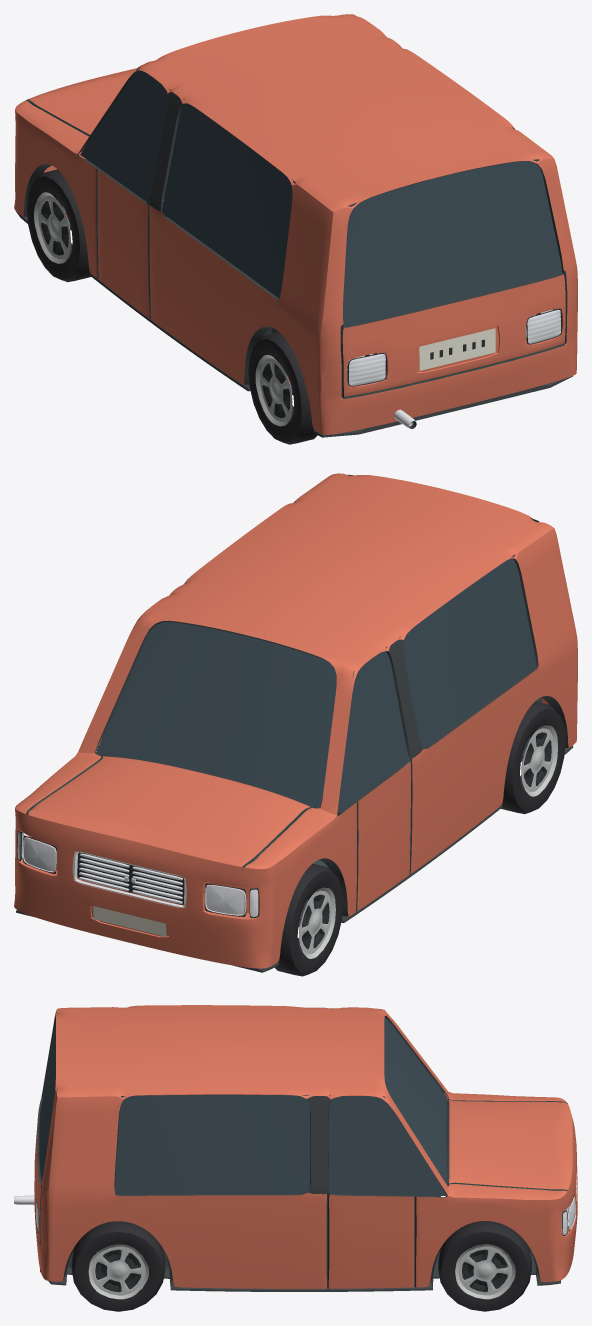
The model's file is forge_closed_van_lod1.fbx.
3 renders of one model, top to bottom at view 1: azimuth 30°, elevation 25°; view 2: azimuth 150°, elevation 25°; view 3: azimuth 270°, elevation 25°, orthographic. The views are drawn at different scales.
Parts seen in each view (by area): view 1: Body, Wheel_RL_Mesh, Wheel_FL_Mesh; view 2: Body, Wheel_FL_Mesh, Wheel_RL_Mesh; view 3: Body, Wheel_RR_Mesh, Wheel_FR_Mesh.
Part boxes in pixels (<box>): Body: <box>14,14,577,437</box>; Wheel_RL_Mesh: <box>248,332,317,444</box>; Wheel_FL_Mesh: <box>27,169,90,282</box>; Body: <box>14,473,577,972</box>; Wheel_FL_Mesh: <box>274,863,343,976</box>; Wheel_RL_Mesh: <box>501,701,565,814</box>; Body: <box>14,1005,577,1291</box>; Wheel_RR_Mesh: <box>71,1221,165,1311</box>; Wheel_FR_Mesh: <box>438,1221,531,1311</box>.
Bounding box in the file's own units: 158 × 151 × 351.
